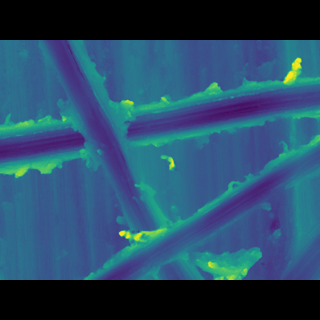Loch: (34, 69, 207, 250), (81, 144, 319, 249), (0, 95, 320, 170)
